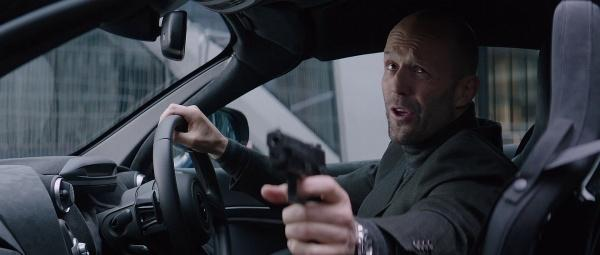Gun: (267, 129, 327, 200)
